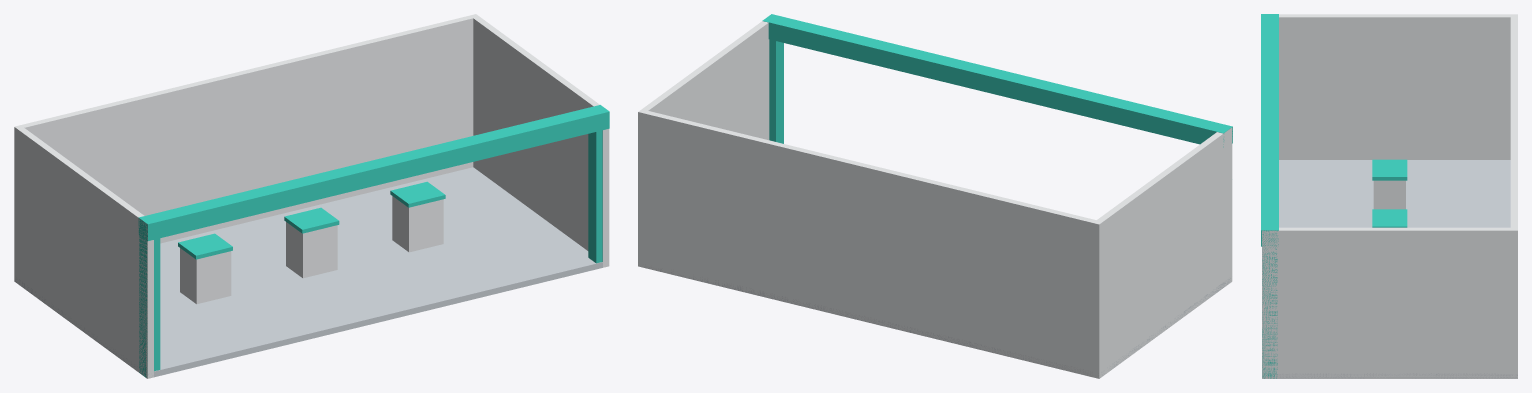
3 renders of one model, left to right at view 1: azimuth 30°, elevation 25°; view 2: azimuth 150°, elevation 25°; view 3: azimuth 270°, elevation 25°, orthographic. The views are drawn at different scales.
Parts seen in each view (by area): view 1: Exhibition Booth Concept; view 2: Exhibition Booth Concept; view 3: Exhibition Booth Concept.
Part boxes in pixels (<box>): Exhibition Booth Concept: <box>14,14,609,378</box>; Exhibition Booth Concept: <box>638,14,1232,378</box>; Exhibition Booth Concept: <box>1261,14,1517,378</box>.
Bounding box in the file's own units: 10 × 3.2 × 5.02.
